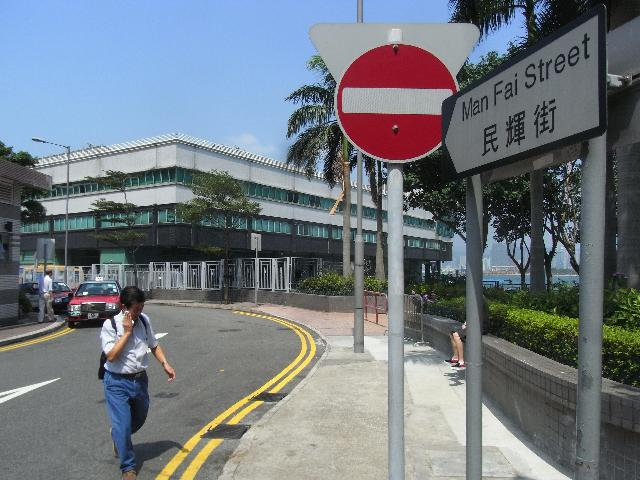B2: (336, 44, 456, 160)
